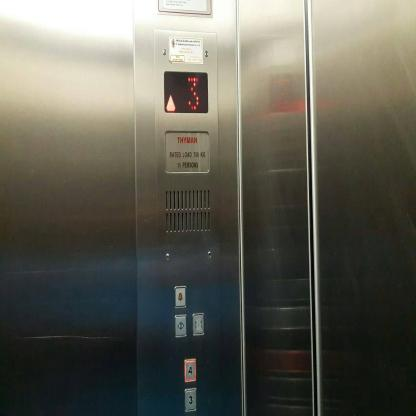3: (184, 388, 196, 412)
4: (183, 358, 196, 383)
alarm: (174, 284, 187, 308)
close: (191, 312, 205, 336)
led: (164, 71, 208, 114)
open: (174, 314, 187, 338)
